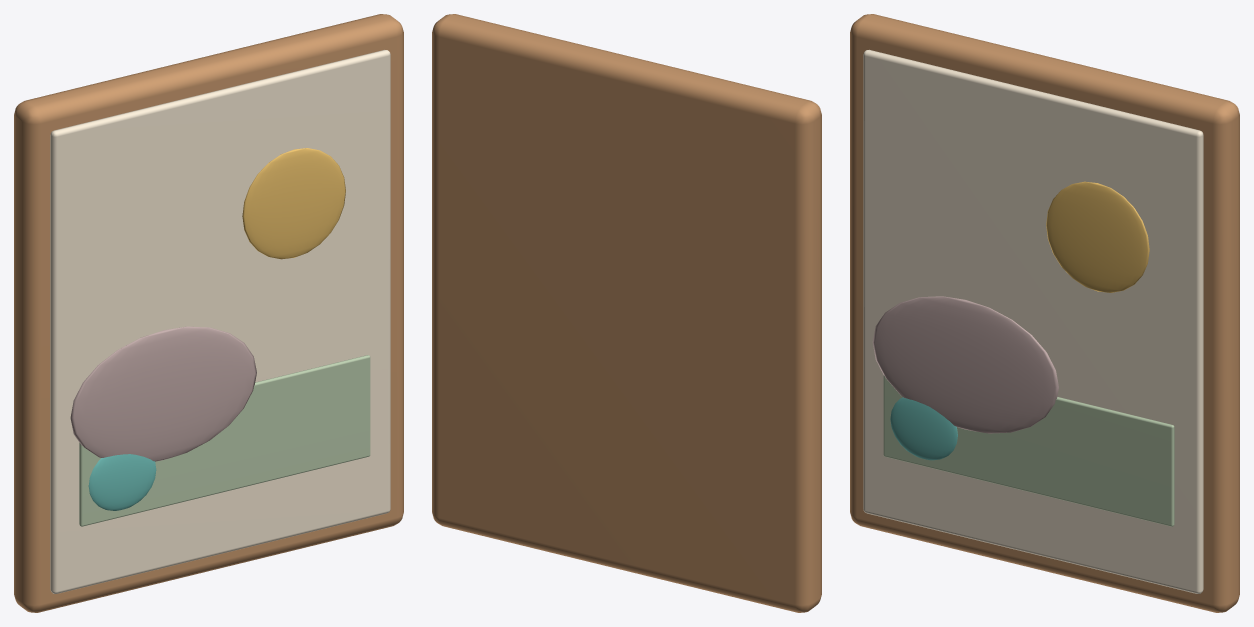
Rendered from poster17.glb.
3 renders of one model, left to right at view 1: azimuth 30°, elevation 25°; view 2: azimuth 150°, elevation 25°; view 3: azimuth 330°, elevation 25°, orthographic.
Parts seen in each view (by area): view 1: Paper, Frame, Landscape, Landscape hill, Illustrated sun, Abstract motif; view 2: Frame; view 3: Paper, Frame, Landscape, Landscape hill, Illustrated sun, Abstract motif.
Part boxes in pixels (x1=…): Paper: x1=50, y1=49, x2=390, y2=593; Frame: x1=14, y1=14, x2=403, y2=612; Landscape: x1=79, y1=355, x2=370, y2=526; Landscape hill: x1=70, y1=326, x2=256, y2=461; Illustrated sun: x1=242, y1=148, x2=345, y2=259; Abstract motif: x1=88, y1=454, x2=156, y2=510; Frame: x1=432, y1=14, x2=821, y2=612; Paper: x1=863, y1=49, x2=1203, y2=593; Frame: x1=850, y1=14, x2=1239, y2=612; Landscape: x1=883, y1=375, x2=1174, y2=526; Landscape hill: x1=872, y1=296, x2=1058, y2=433; Illustrated sun: x1=1046, y1=181, x2=1149, y2=292; Abstract motif: x1=890, y1=397, x2=957, y2=460.
Size of the model in its own units: 1.1 by 1.4 by 0.15.
